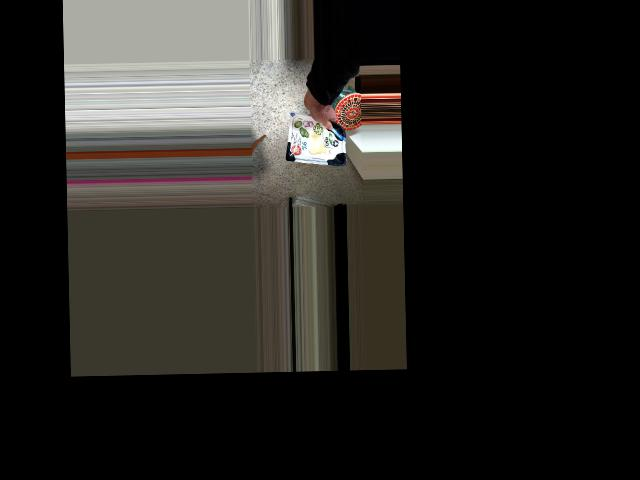cheese: (285, 102, 337, 150)
